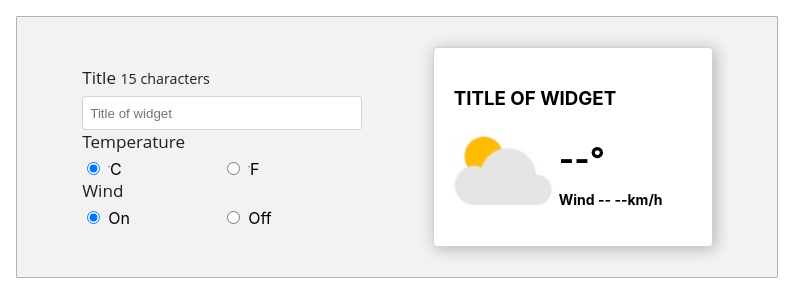
Scenario: renders application › should manage displaying wind speed on card once the wind is on/off inthe form
The width and height of the screenshot is (795, 295).
Expected: the text with test id "wind-display" is shown, [559, 191, 598, 208]
Click the radio button with test id "wind-off" at (234, 218), box [227, 211, 240, 224]
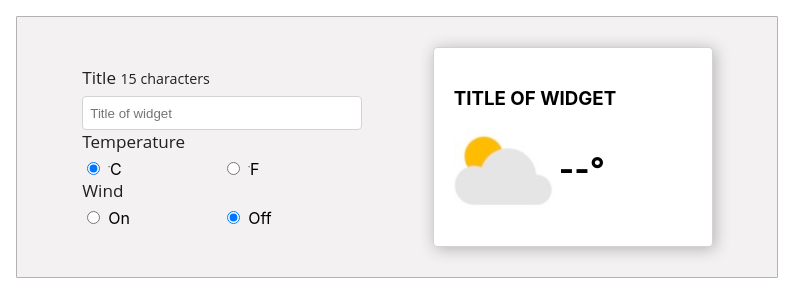
Result: the text with test id "wind-display" is gone
Click the radio button with test id "wind-on" at (94, 218), box [87, 211, 100, 224]
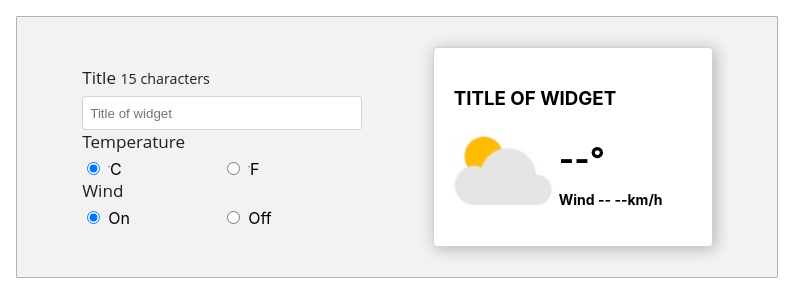
Result: the text with test id "wind-display" is shown at [559, 191, 598, 208]
